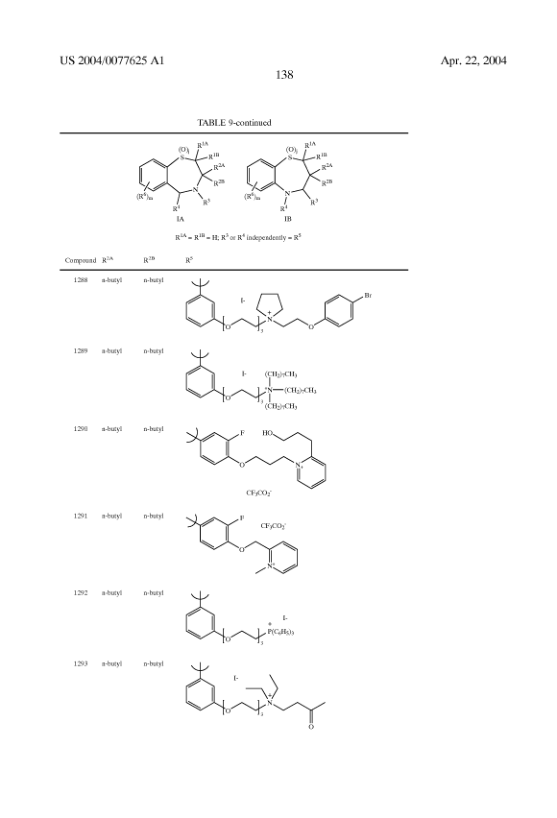compound-structure: (178, 275, 382, 344), (178, 427, 342, 498), (181, 661, 329, 736), (178, 350, 329, 419), (178, 509, 314, 580), (132, 138, 239, 226), (243, 141, 340, 226), (183, 590, 298, 649)
